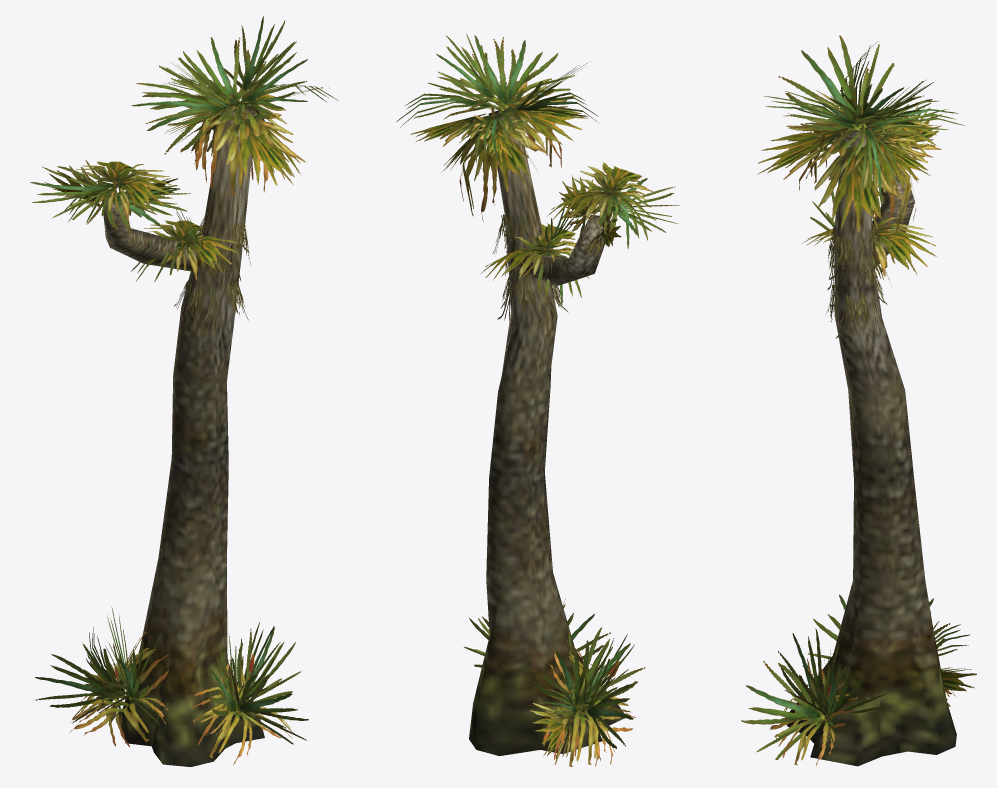
Rendered from S_Tree_Yellow051.FBX.
3 views of the same model, side by side, from view 1: azimuth 30°, elevation 25°; view 2: azimuth 150°, elevation 25°; view 3: azimuth 270°, elevation 25° (orthographic). The views are drawn at different scales.
Visible parts, largest first — view 1: S_Tree_Yellow051; view 2: S_Tree_Yellow051; view 3: S_Tree_Yellow051.
Boxes of the visible parts, box(x1,y1,x2,y2) form: S_Tree_Yellow051: box(30, 16, 338, 766); S_Tree_Yellow051: box(396, 34, 679, 766); S_Tree_Yellow051: box(741, 35, 976, 766).
Size of the model in its own units: 370 by 252 by 793.
